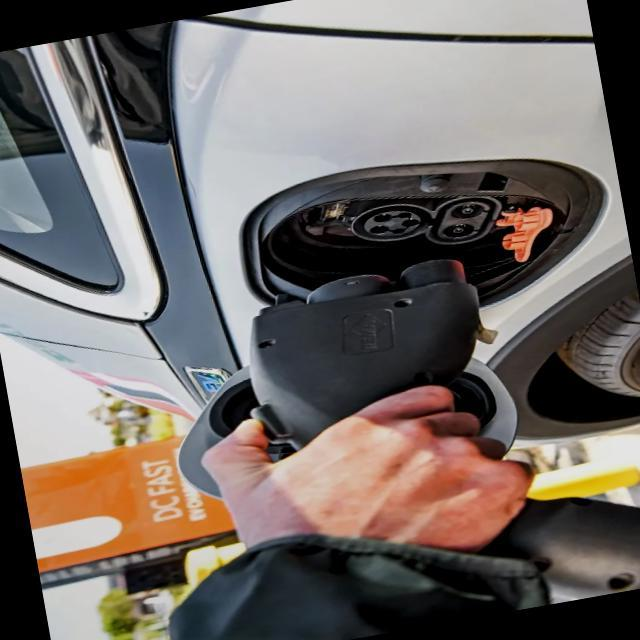CCS1: (308, 179, 525, 273)
